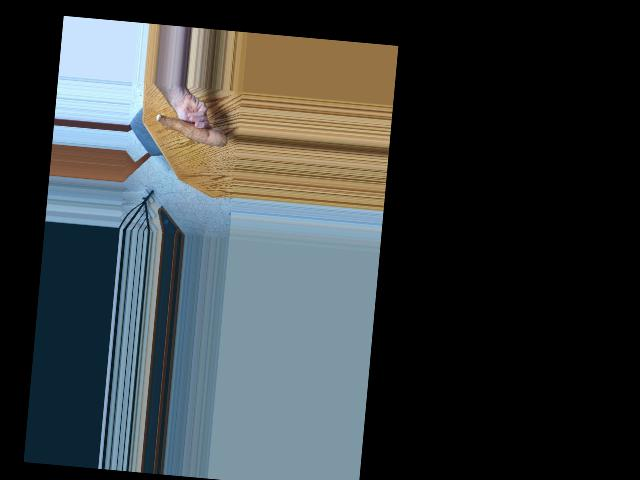sweet_potato: (153, 110, 227, 149)
